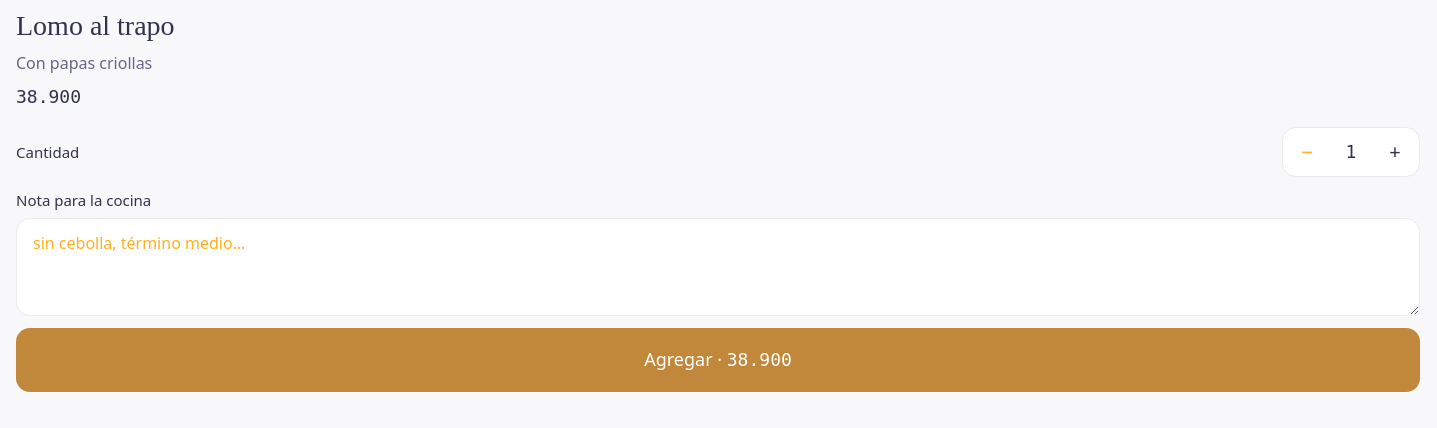
Test: says Agregando… and blocks a second tap while the add is in flight
The width and height of the screenshot is (1437, 428).
(page scrolled)
Click the button "Agregar · 38.900".
click(718, 360)  # box [16, 328, 1420, 392]
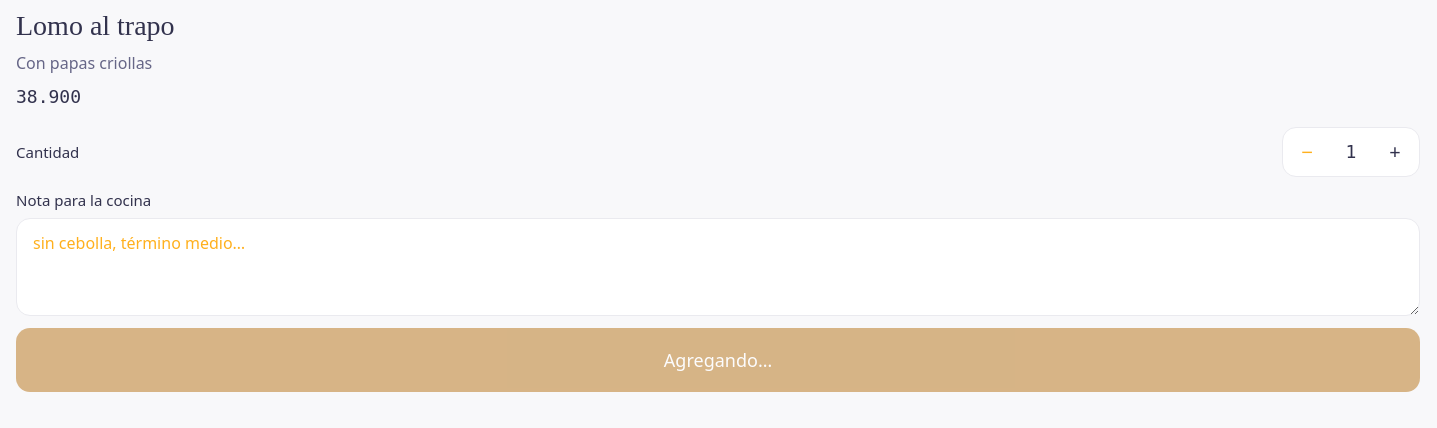
Expected: the button "Agregando…" is disabled
Click the button "Agregando…".
click(718, 360)  # box [16, 328, 1420, 392]
(page scrolled)
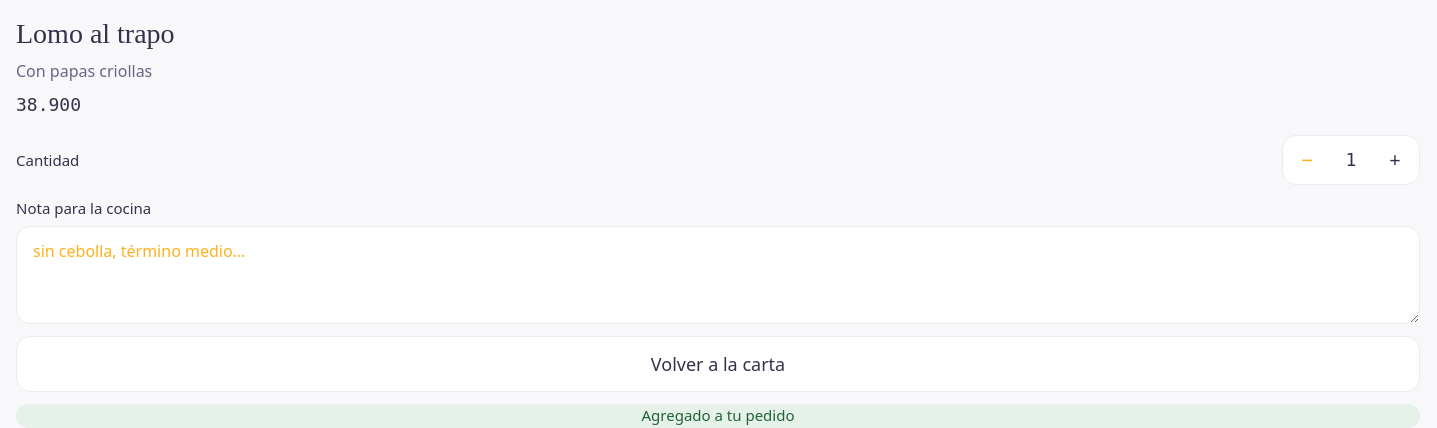
Expected: the text "Agregado a tu pedido" is shown, [16, 404, 1420, 427]
